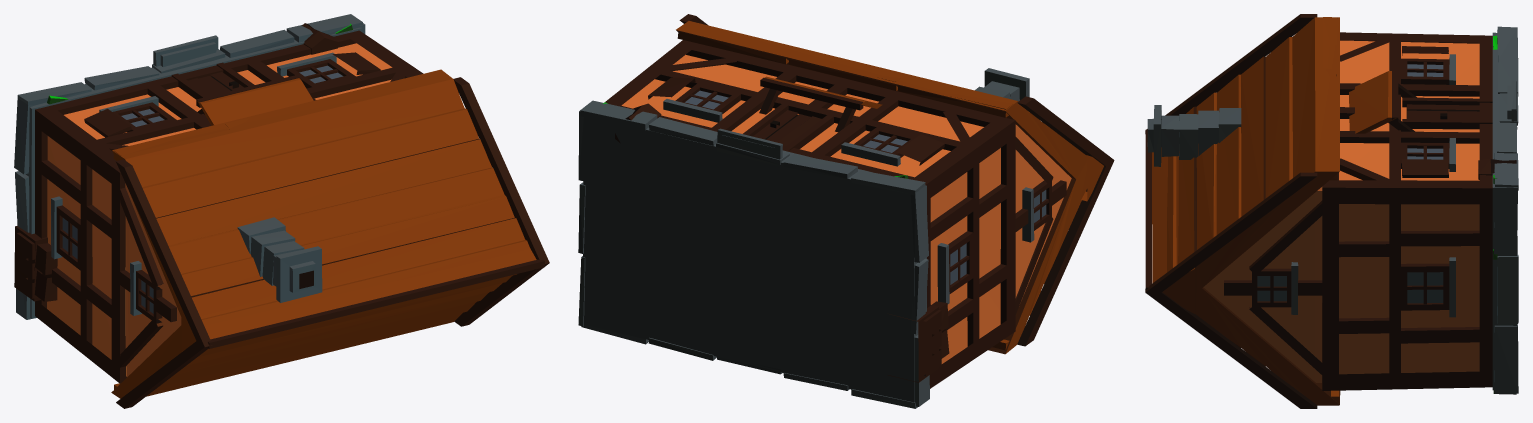
Rendered from house_a.obj.
The picture shows the model from 3 angles, left to right: view 1: azimuth 30°, elevation 25°; view 2: azimuth 150°, elevation 25°; view 3: azimuth 270°, elevation 25°; orthographic projection. The views are drawn at different scales.
Parts seen in each view (by area): view 1: vh_house; view 2: vh_house; view 3: vh_house.
Part boxes in pixels (x1,y1,x2,y2): vh_house: [14, 14, 549, 408]; vh_house: [578, 14, 1114, 408]; vh_house: [1145, 14, 1518, 408].
Size of the model in its own units: 2.98 by 2.01 by 2.91.
